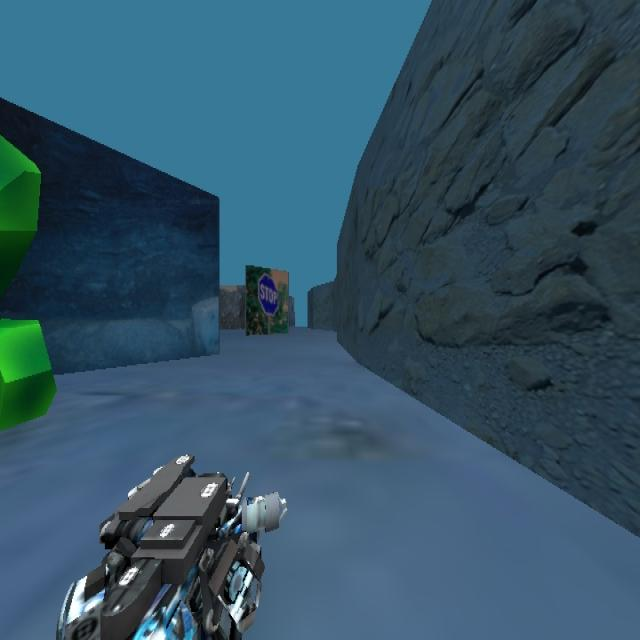Circle: (257, 271, 279, 316)
Diamon: (0, 110, 90, 447), (0, 316, 57, 431)
